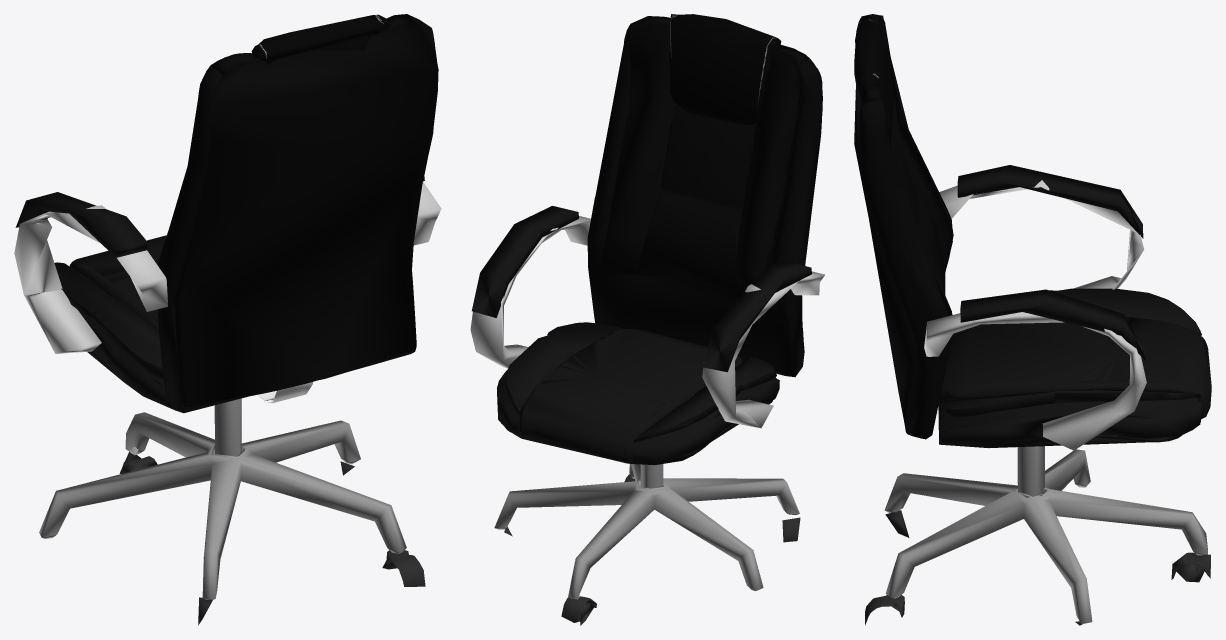
The model's file is officeChair.glb.
The picture shows the model from 3 angles, left to right: view 1: azimuth 30°, elevation 25°; view 2: azimuth 150°, elevation 25°; view 3: azimuth 270°, elevation 25°; orthographic projection. The views are drawn at different scales.
Visible parts, largest first — view 1: Object_30, Object_9, Object_7, Object_5, Object_14, Object_10; view 2: Object_30, Object_7, Object_9, Object_14, Object_5, Object_10; view 3: Object_7, Object_30, Object_9, Object_5, Object_14, Object_10.
Part boxes in pixels (bbox=[...]): Object_30: bbox=[157, 14, 438, 408]; Object_9: bbox=[39, 398, 406, 599]; Object_7: bbox=[15, 176, 424, 413]; Object_5: bbox=[14, 182, 441, 353]; Object_14: bbox=[251, 14, 389, 63]; Object_10: bbox=[119, 451, 425, 625]; Object_30: bbox=[587, 16, 822, 377]; Object_7: bbox=[472, 206, 811, 465]; Object_9: bbox=[494, 464, 799, 599]; Object_14: bbox=[669, 14, 781, 125]; Object_5: bbox=[470, 216, 824, 428]; Object_10: bbox=[504, 474, 800, 625]; Object_7: bbox=[938, 165, 1211, 448]; Object_30: bbox=[854, 14, 953, 439]; Object_9: bbox=[884, 446, 1207, 623]; Object_5: bbox=[924, 180, 1146, 450]; Object_14: bbox=[854, 19, 894, 144]; Object_10: bbox=[865, 510, 1210, 625].
Bounding box in the file's own units: 0.6745 × 1.19 × 0.7104.
Materials: 8 (1 with a texture image).
